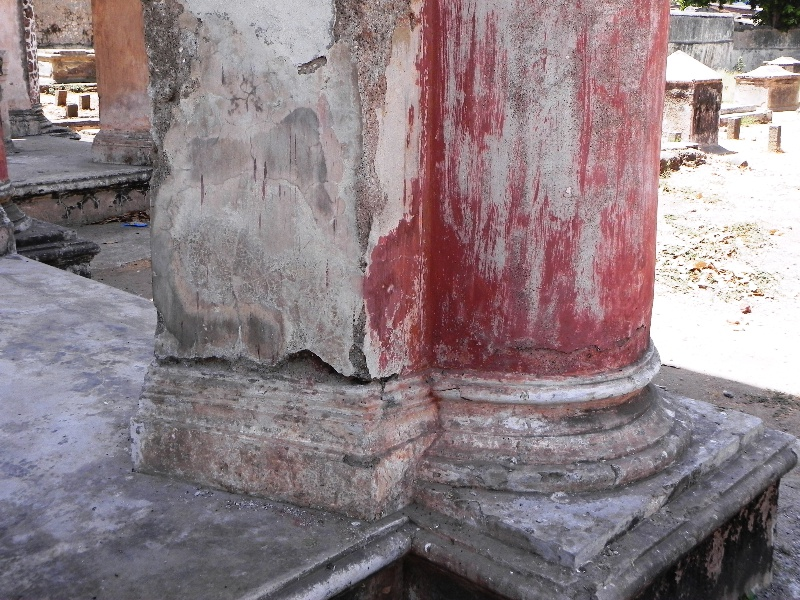Spalling: (151, 315, 397, 397), (328, 2, 403, 255), (144, 1, 192, 184)
